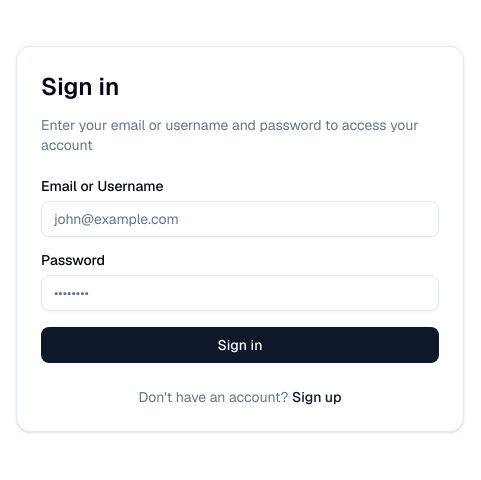
Test: LoginPage › Error Handling › should display error message when login throws an exception
Type "test@example.com" into the field labelled "Email or Username".
click(240, 219); type("test@example.com")  # box 41,201 -> 439,237
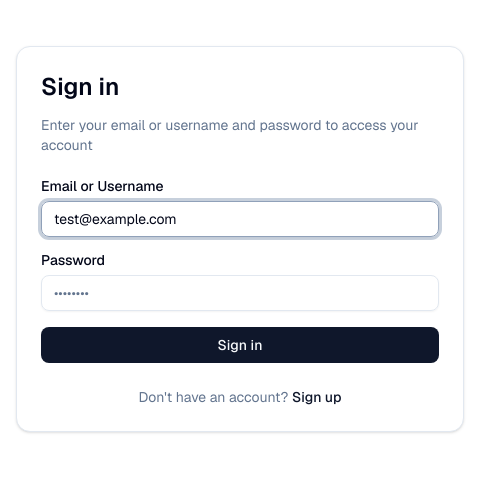
Type "password123" into the password field labelled "Password".
click(240, 293); type("password123")  # box 41,275 -> 439,311
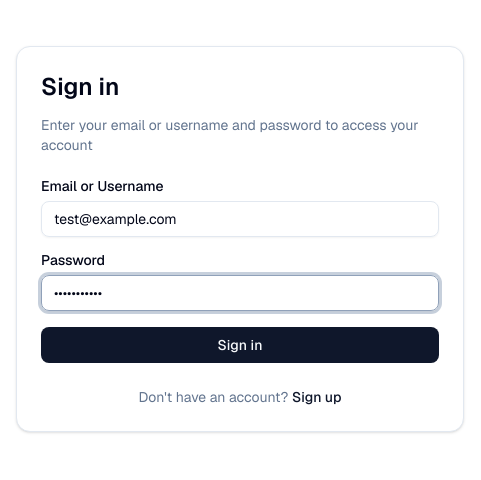
Click the button "Sign in".
click(240, 345)  # box 41,327 -> 439,363
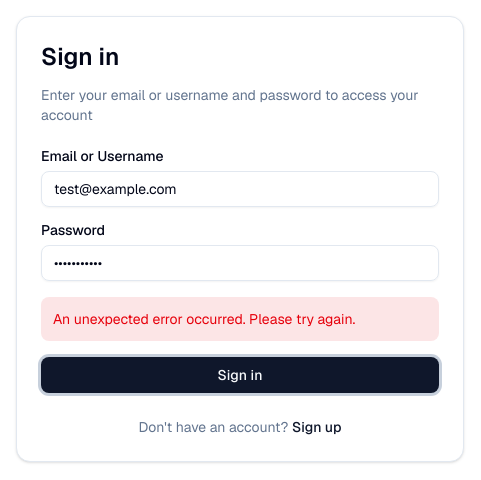
Expected: the text "An unexpected error occurred. Please try again." is shown, 41,297 -> 439,341
